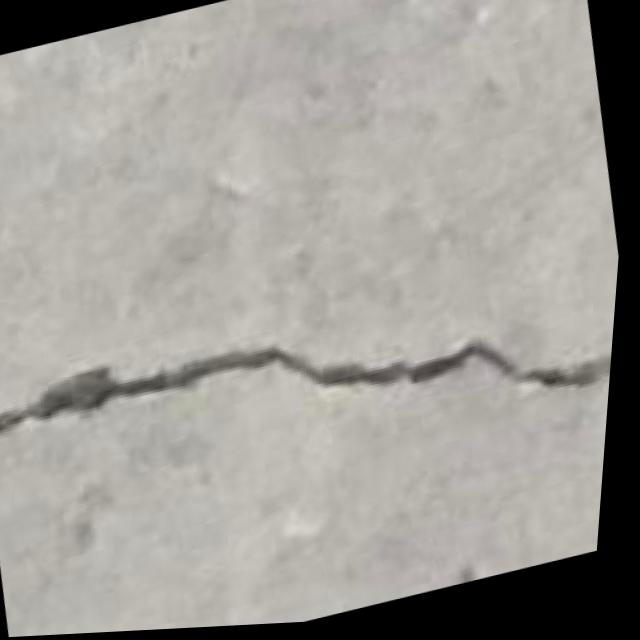Crack: (0, 236, 625, 549)
